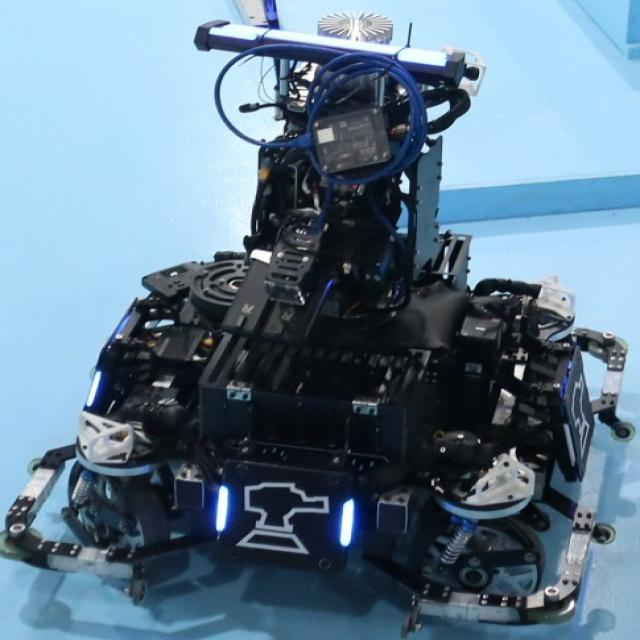Bs: (214, 470, 356, 557)
